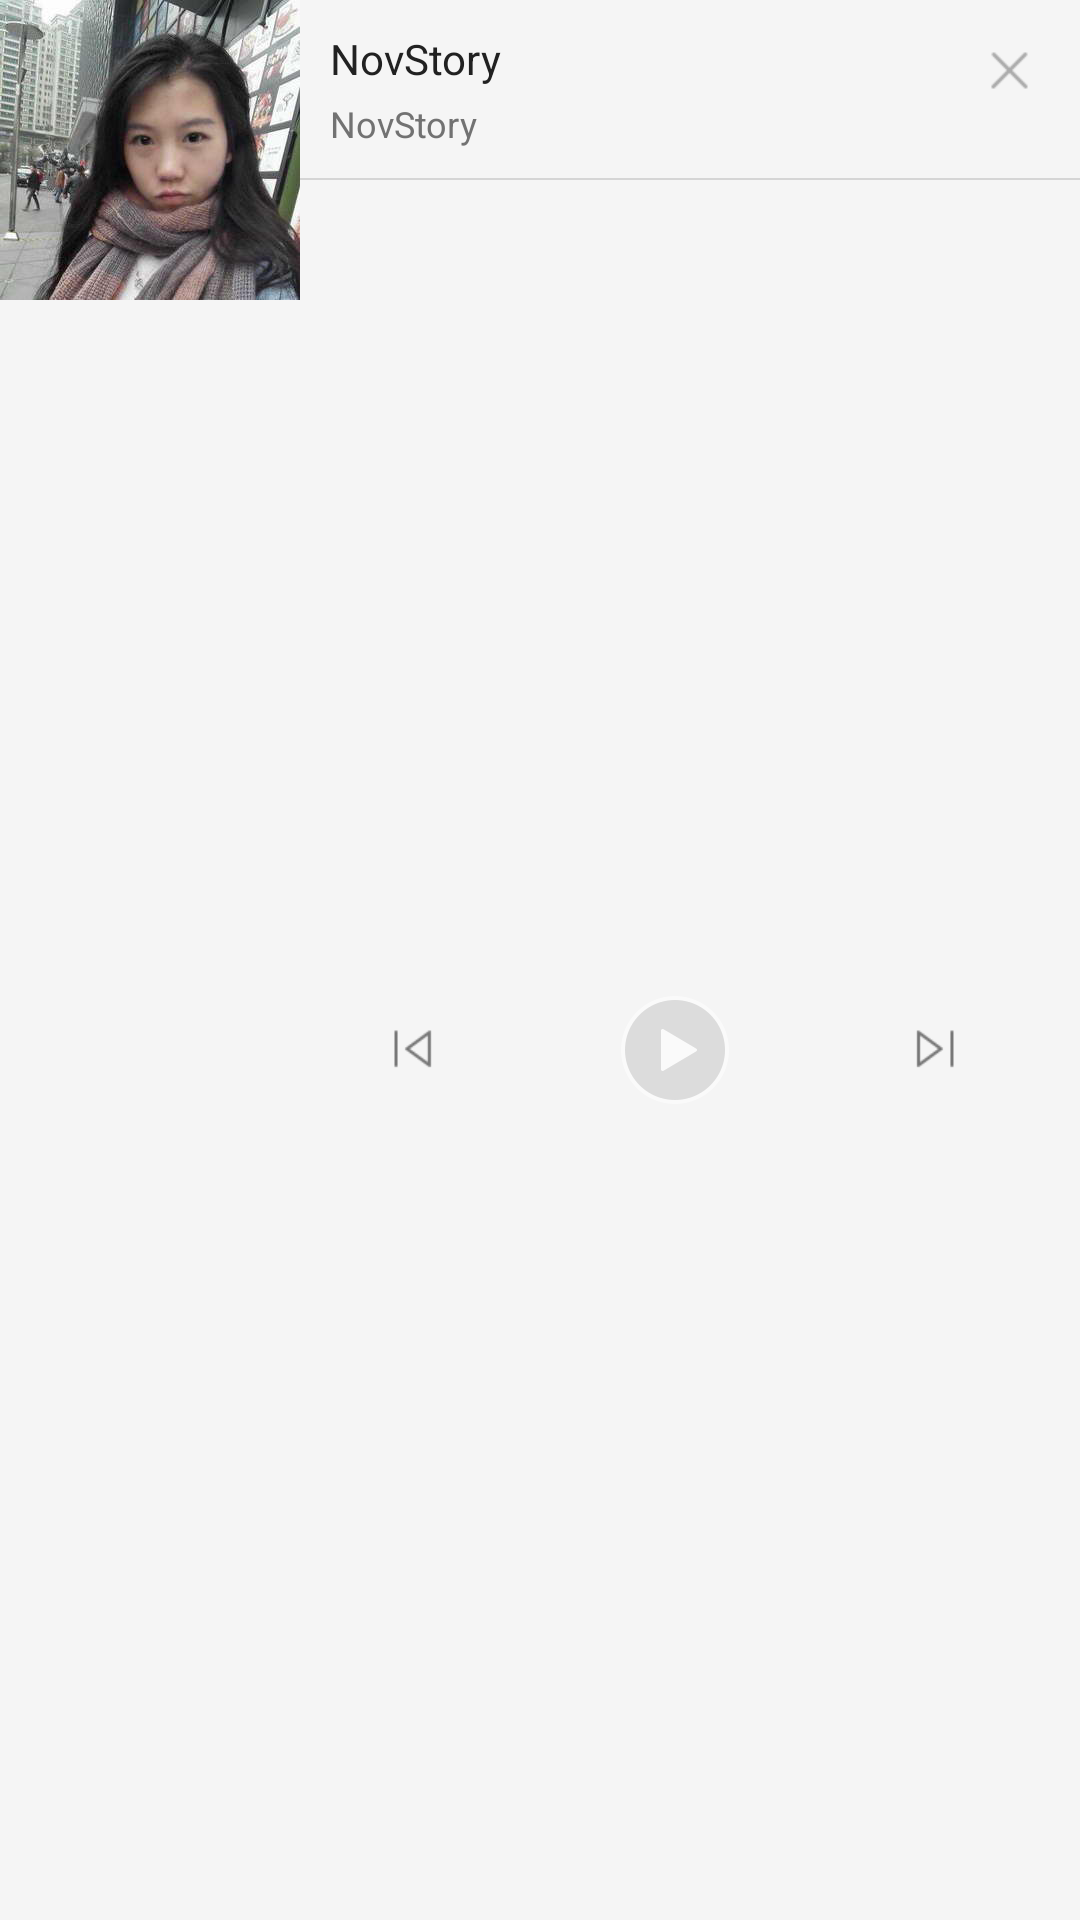

Icons on this 1080 x 1920 Android screen, each with its box as rect(x1, y1, x2, y2):
note next: rect(917, 1030, 954, 1067)
note pre: rect(394, 1030, 431, 1067)
play notify close: rect(991, 52, 1028, 89)
play prs: rect(625, 1000, 725, 1100)
